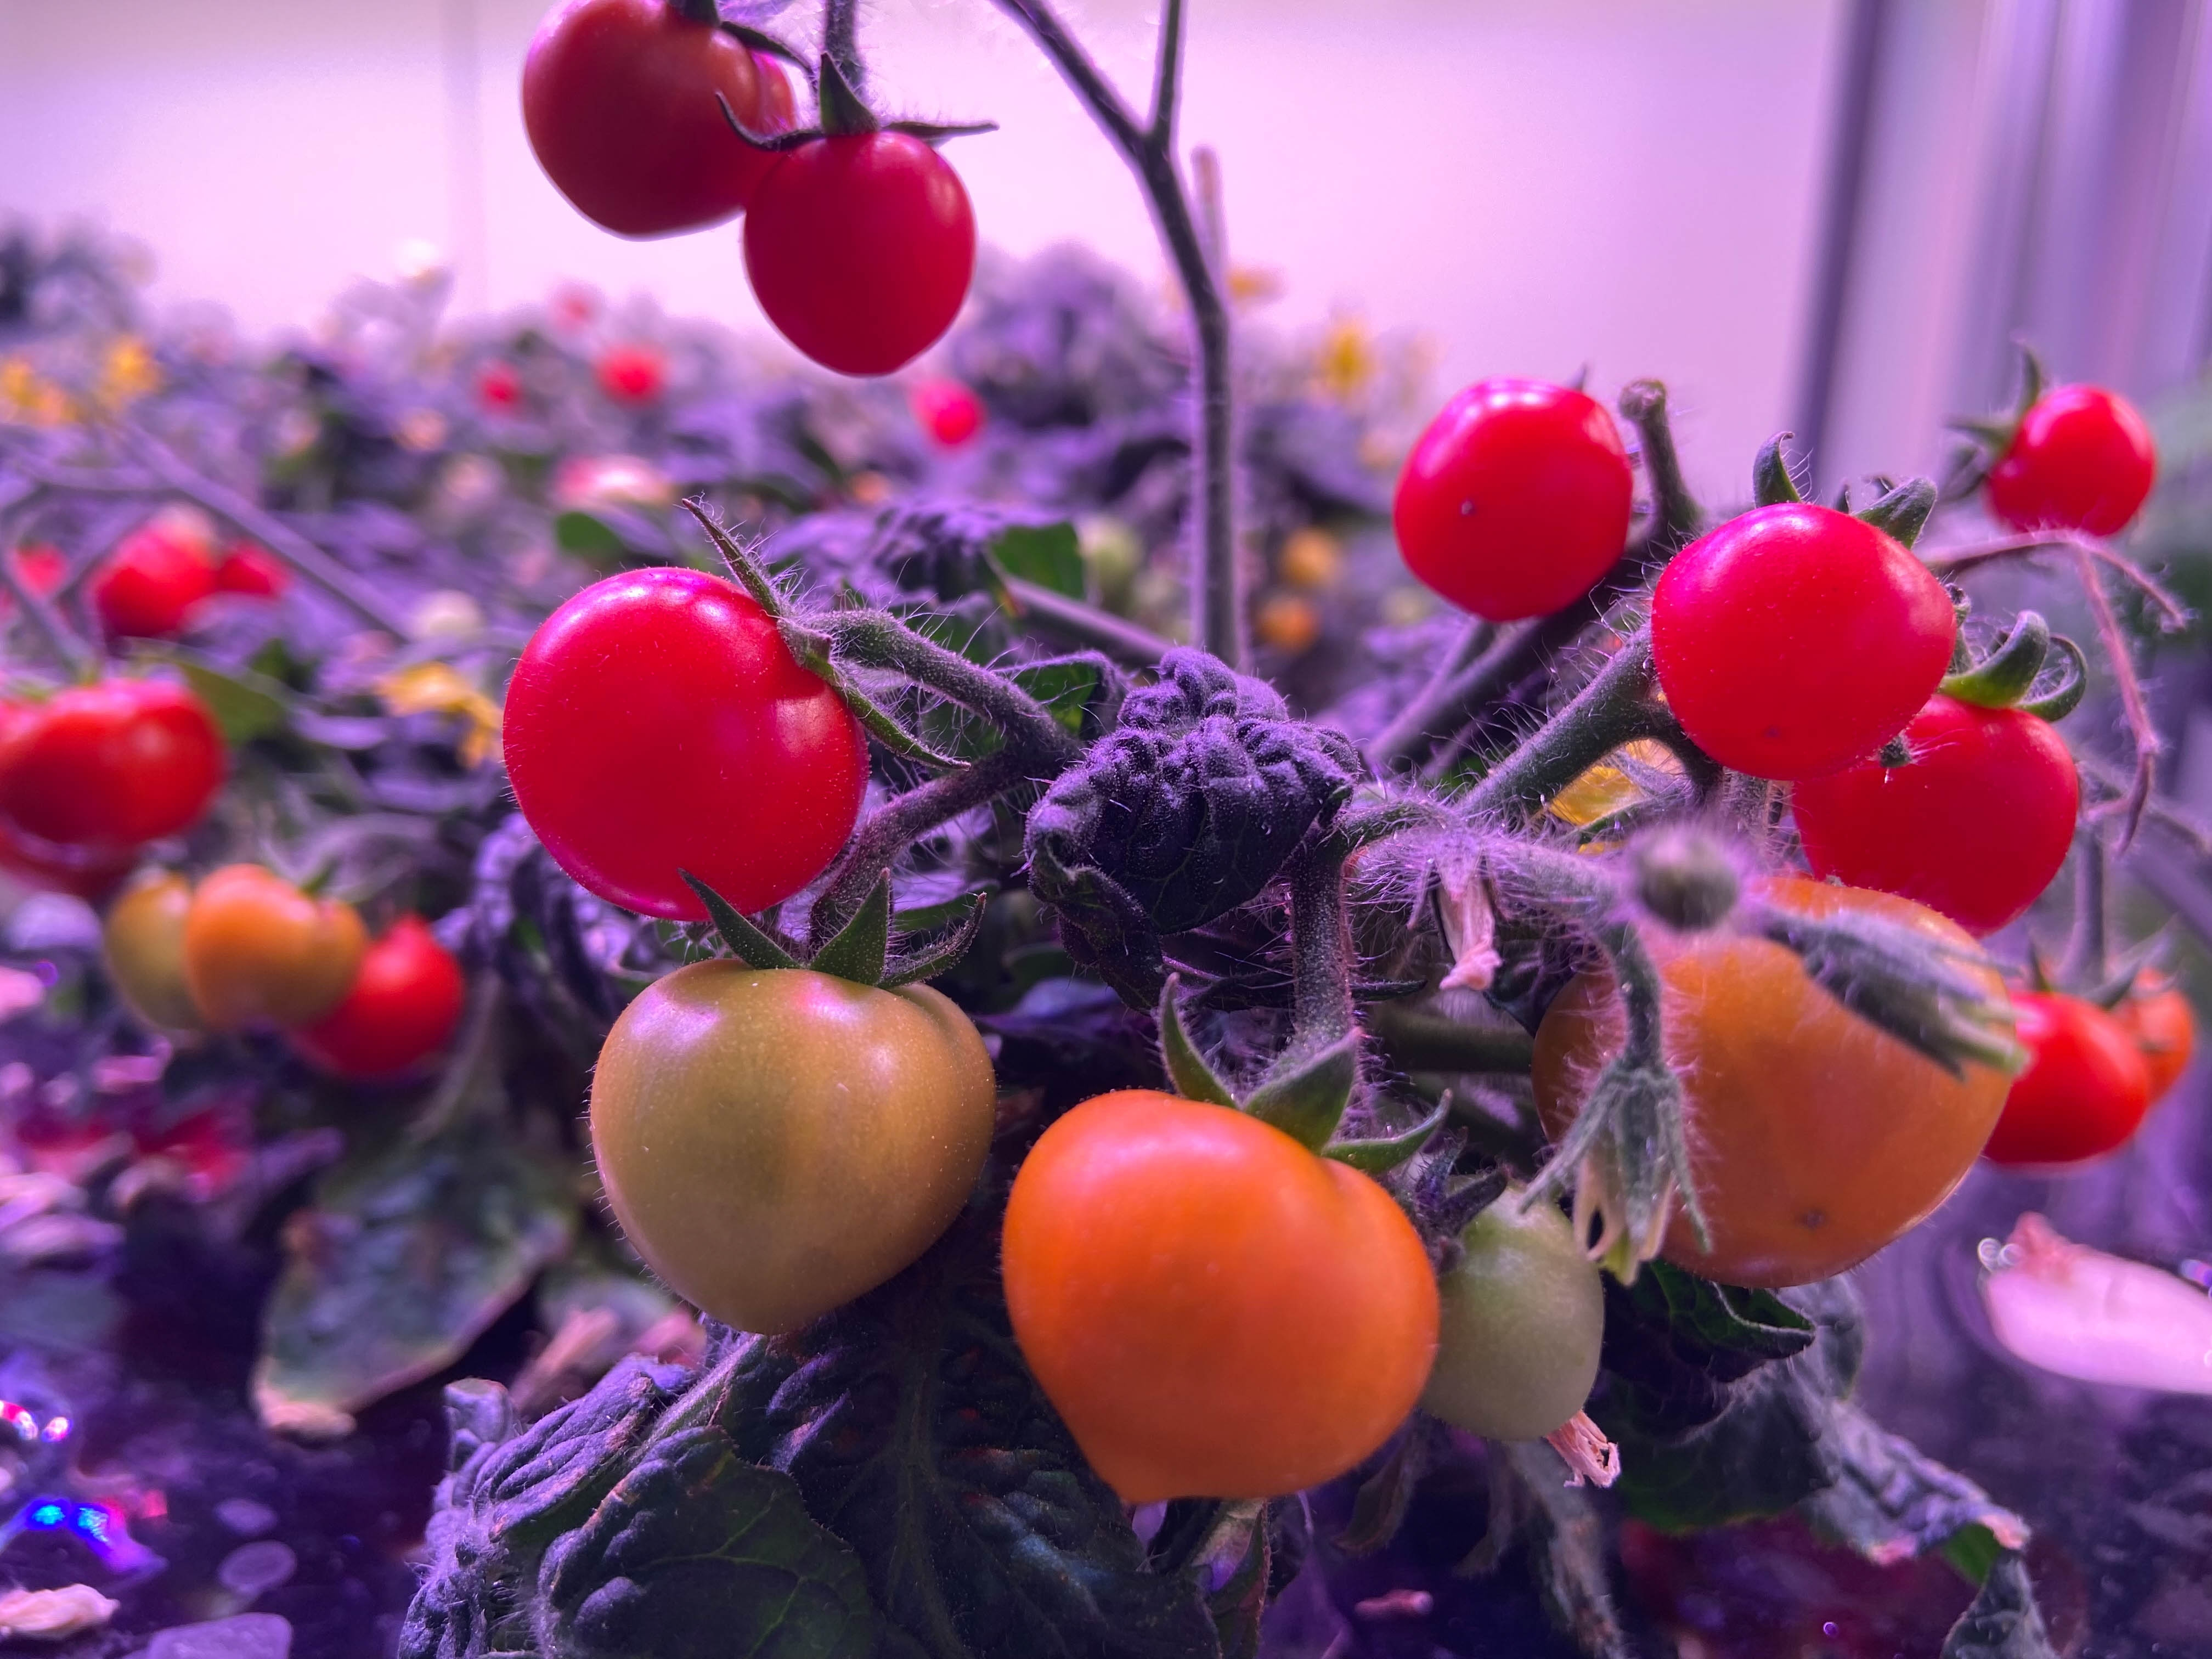green: (1409, 1185, 1609, 1443)
red: (1543, 875, 2013, 1300), (998, 1082, 1437, 1507), (585, 950, 998, 1338), (502, 572, 869, 922), (1648, 493, 1958, 779), (1791, 674, 2085, 936), (517, 0, 777, 244), (735, 124, 981, 380), (1392, 382, 1639, 624), (0, 683, 221, 863), (1977, 978, 2163, 1169), (179, 857, 361, 1032), (293, 906, 469, 1077), (1982, 375, 2156, 540), (87, 507, 233, 634), (99, 866, 212, 1026), (2095, 971, 2198, 1131), (906, 369, 993, 458), (590, 342, 672, 411), (543, 274, 606, 335), (475, 362, 533, 415)
